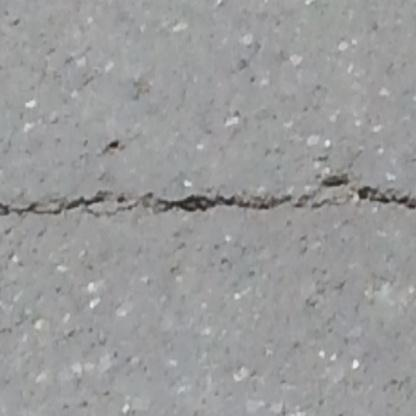Cracks: (0, 187, 353, 224), (317, 171, 416, 226)
